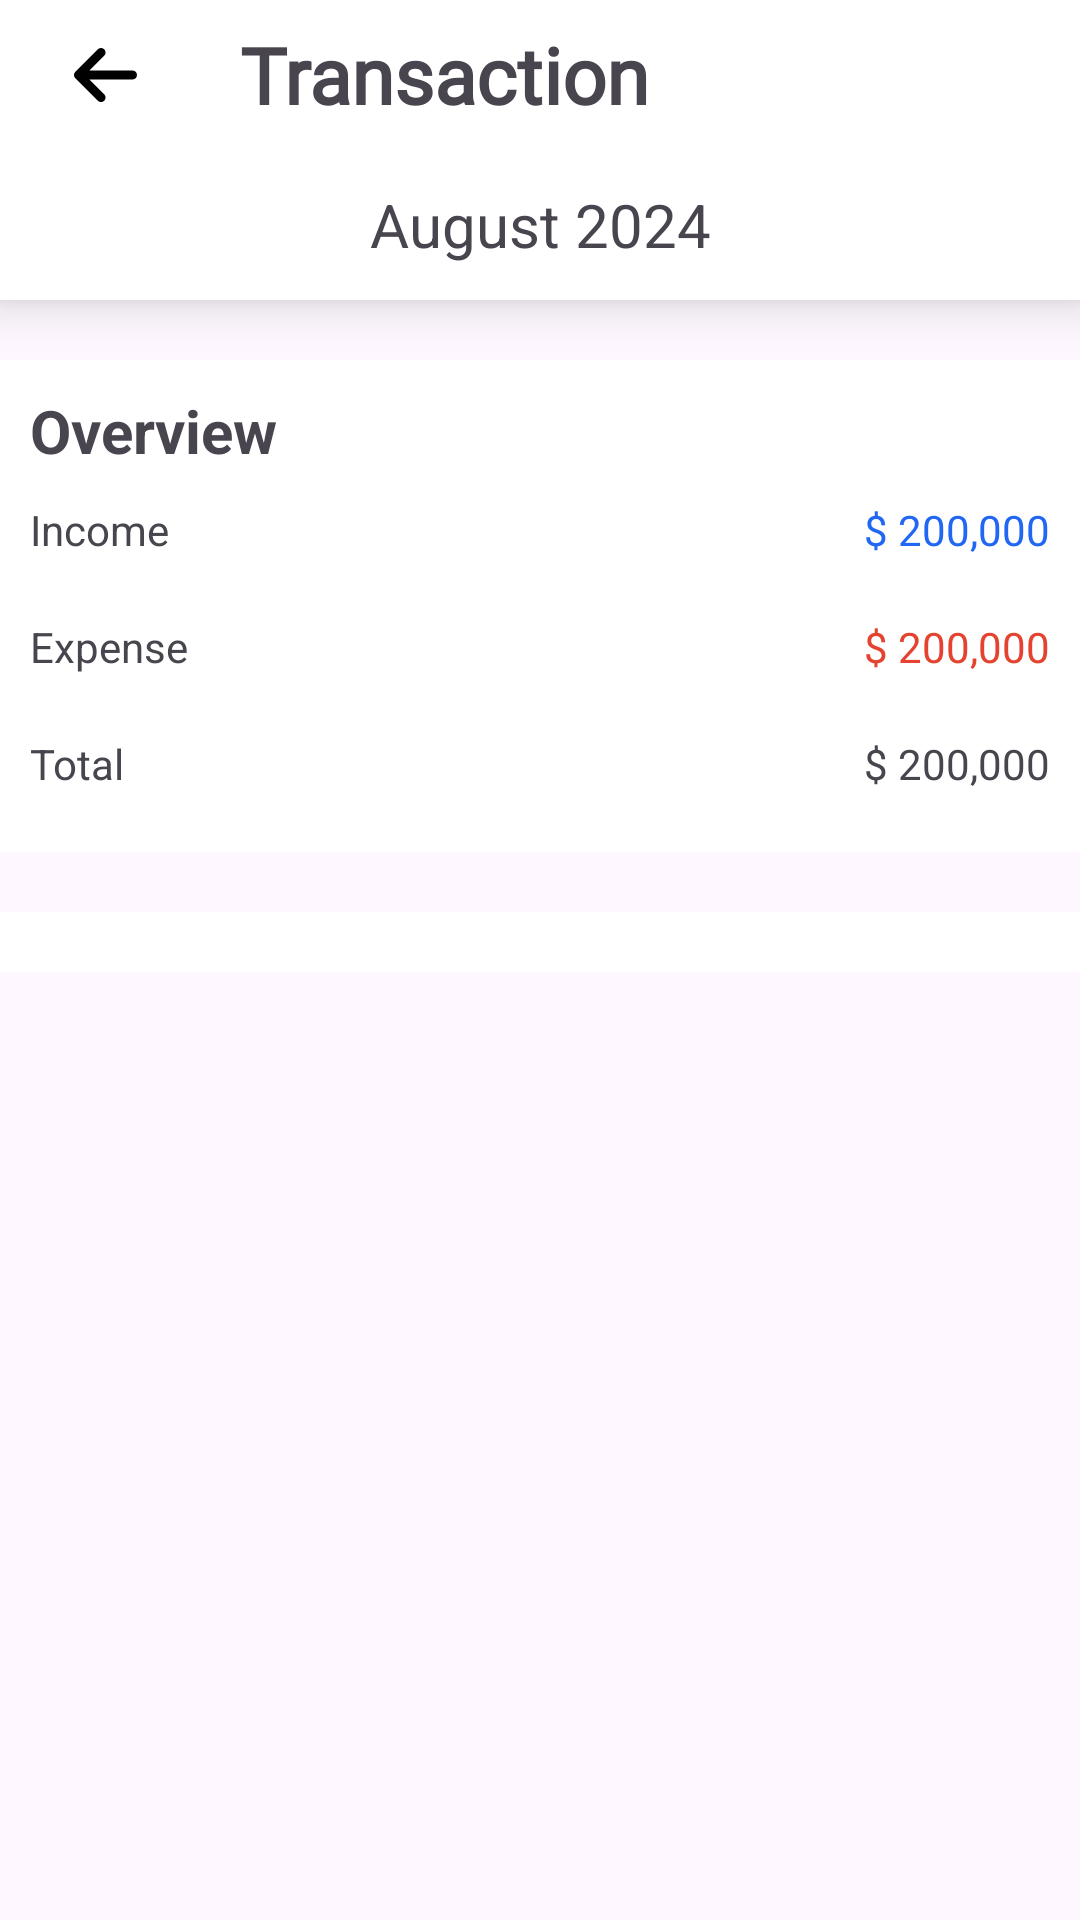

Where icons sit on this 1080 x 1920 app screen, as [x1, y1, x2, y2]:
arrow left: [74, 48, 137, 102]
